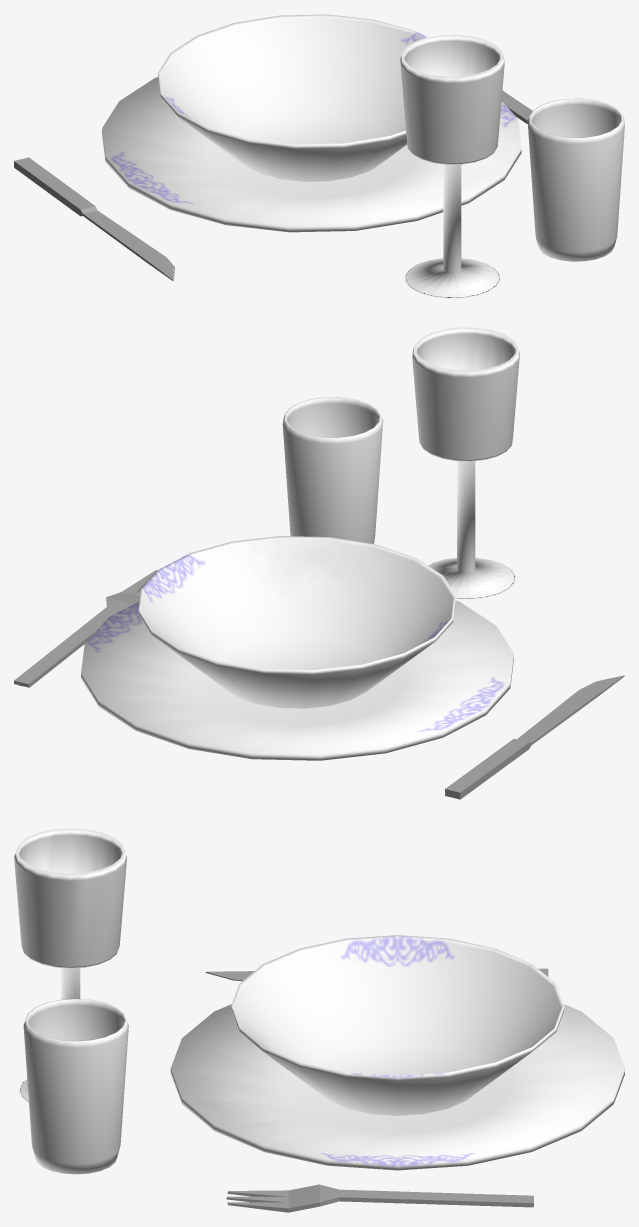
The model's file is PlateSet.fbx.
3 views of the same model, one above another, from view 1: azimuth 30°, elevation 25°; view 2: azimuth 150°, elevation 25°; view 3: azimuth 270°, elevation 25° (orthographic). The views are drawn at different scales.
Parts seen in each view (by area): view 1: PlateSet; view 2: PlateSet; view 3: PlateSet.
Boxes of the visible parts, x1,y1,x2,y2 form: PlateSet: [14, 14, 624, 298]; PlateSet: [14, 327, 624, 799]; PlateSet: [14, 828, 624, 1212].
Bounding box in the file's own units: 0.4053 × 0.1916 × 0.4433.
